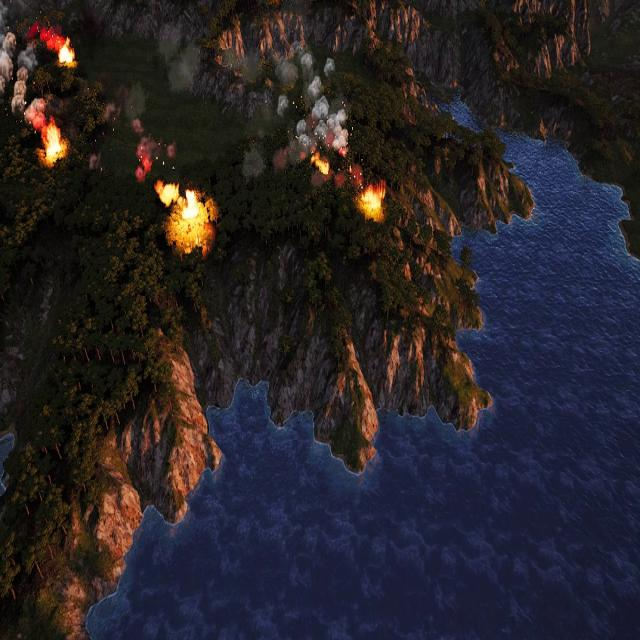fire: (158, 181, 213, 250), (42, 27, 76, 67), (38, 121, 65, 162), (360, 185, 382, 218), (310, 148, 332, 172)
smoke: (268, 38, 354, 178), (120, 79, 182, 188), (0, 30, 45, 121)
